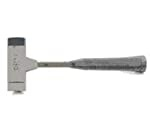hammer: (7, 36, 146, 91)
